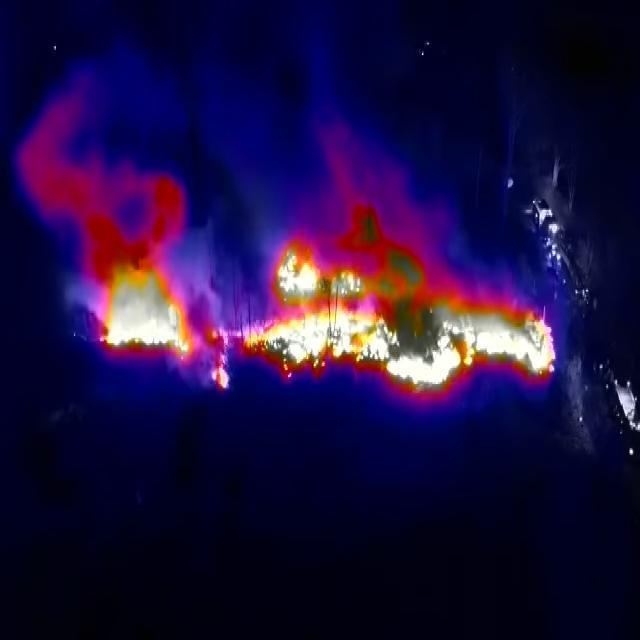fire: (206, 228, 559, 399), (88, 225, 196, 368)
